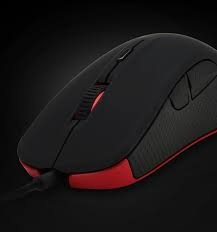mouse: (15, 28, 217, 183)
